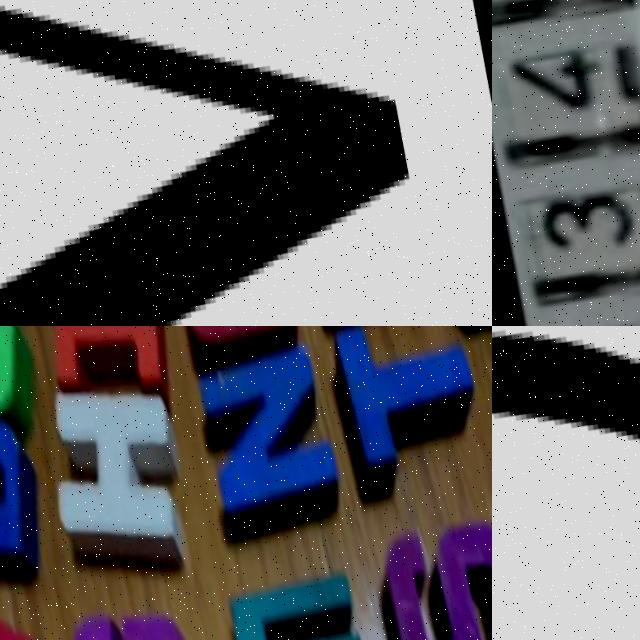0: (492, 326, 640, 640)
3: (526, 180, 640, 276)
4: (492, 34, 619, 140)
B: (0, 398, 56, 582)
C: (0, 326, 39, 438)
G: (52, 587, 220, 640)
H: (35, 373, 211, 580)
I: (35, 326, 182, 399)
M: (218, 556, 396, 640)
N: (191, 326, 352, 531)
S: (364, 494, 492, 640)
T: (327, 326, 492, 488)
V: (0, 0, 478, 326)
